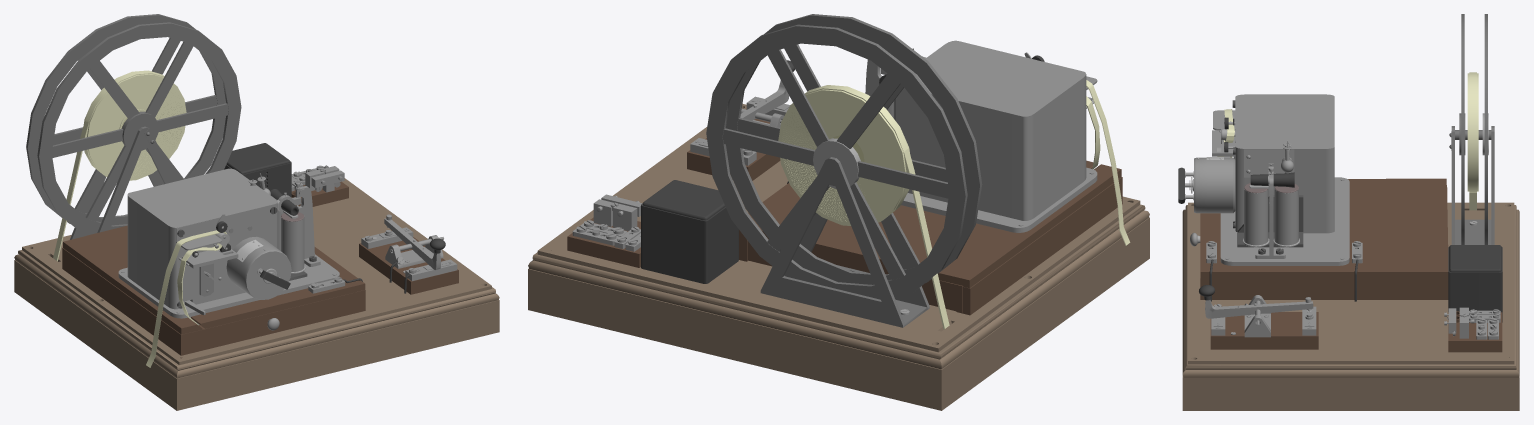
Rendered from green telegraph 1.fbx.
3 views of the same model, side by side, from view 1: azimuth 30°, elevation 25°; view 2: azimuth 150°, elevation 25°; view 3: azimuth 270°, elevation 25° (orthographic). The views are drawn at different scales.
Visible parts, largest first — view 1: polySurface491; view 2: polySurface491; view 3: polySurface491.
Boxes of the visible parts, <box> form: polySurface491: <box>14,14,499,410</box>; polySurface491: <box>528,14,1149,410</box>; polySurface491: <box>1178,14,1519,410</box>.
Size of what is drawn, in the model's own units: 7.86 by 6 by 6.8.
